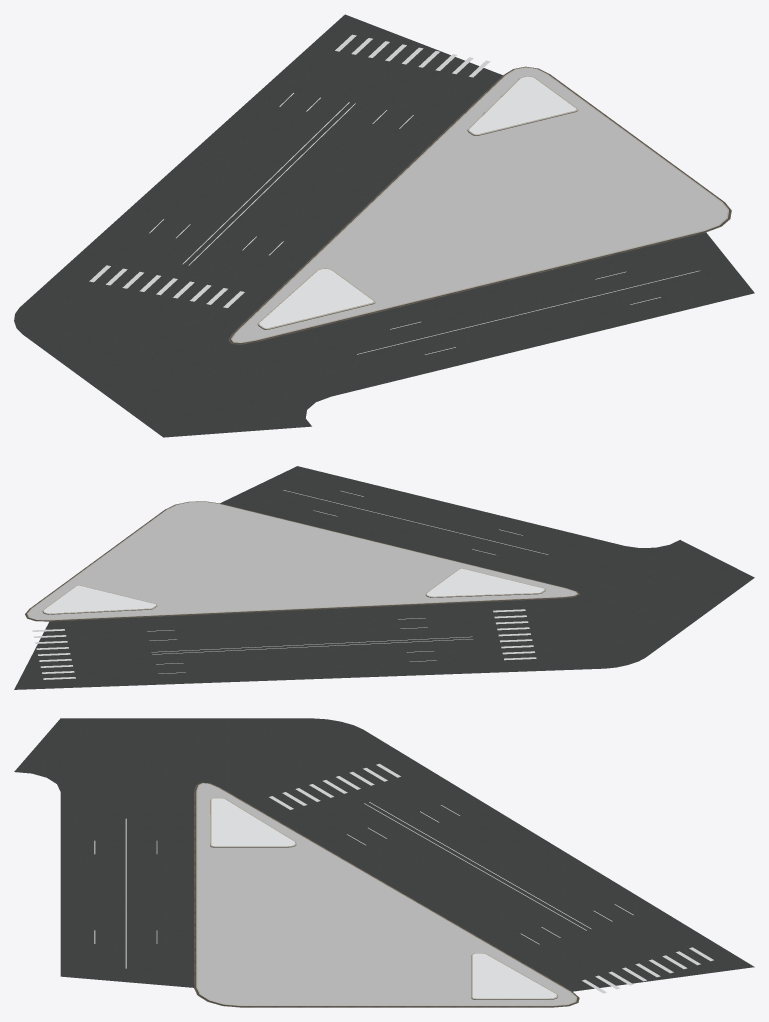
File: New_Terrain_Area_14.fbx
The picture shows the model from 3 angles, top to bottom: view 1: azimuth 30°, elevation 25°; view 2: azimuth 150°, elevation 25°; view 3: azimuth 270°, elevation 25°; orthographic projection. The views are drawn at different scales.
Parts seen in each view (by area): view 1: Road_13, Area_14, Road_Alpha_42; view 2: Road_13, Area_14, Road_Alpha_42; view 3: Road_13, Area_14, Road_Alpha_42.
Boxes of the visible parts, x1,y1,x2,y2 form: Road_13: [14, 14, 754, 437]; Area_14: [228, 66, 731, 344]; Road_Alpha_42: [89, 34, 490, 307]; Road_13: [14, 466, 754, 689]; Area_14: [25, 501, 580, 621]; Road_Alpha_42: [32, 609, 536, 679]; Road_13: [14, 718, 754, 991]; Area_14: [194, 782, 579, 1007]; Road_Alpha_42: [269, 763, 713, 993].
Bounding box in the file's own units: 7418 × 17.21 × 8034.
